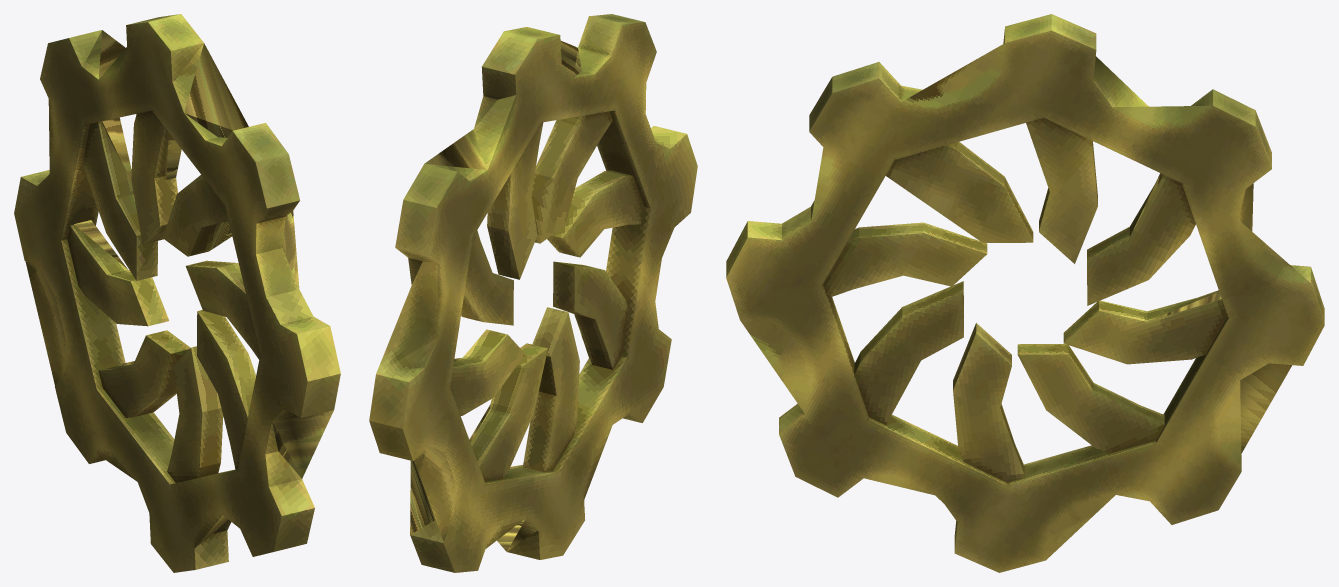
File: item_steampunk_gear_big.glb
3 renders of one model, left to right at view 1: azimuth 30°, elevation 25°; view 2: azimuth 150°, elevation 25°; view 3: azimuth 270°, elevation 25°, orthographic.
Parts seen in each view (by area): view 1: gear; view 2: gear; view 3: gear.
Part boxes in pixels (left/top/right/bottom): gear: left=14, top=14, right=340, bottom=572; gear: left=369, top=14, right=697, bottom=572; gear: left=726, top=14, right=1324, bottom=572.
Size of the model in its own units: 0.0435 by 0.665 by 0.665.
1 material, 1 textured.
